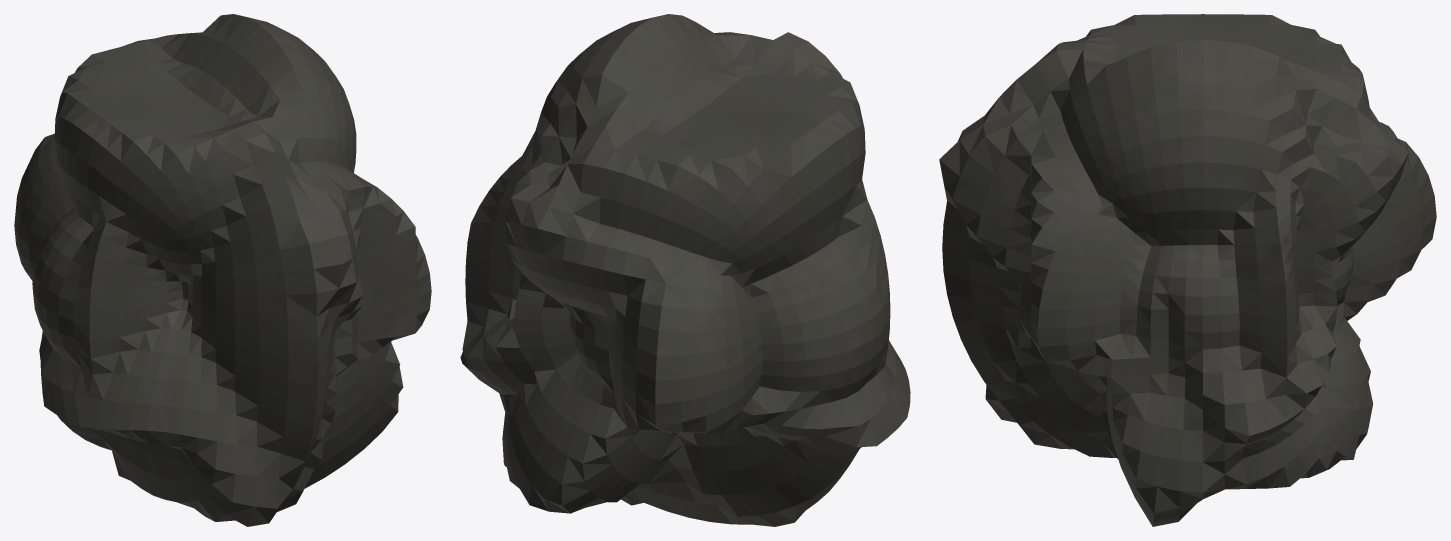
File: rocks-white_2.fbx
The picture shows the model from 3 angles, left to right: view 1: azimuth 30°, elevation 25°; view 2: azimuth 150°, elevation 25°; view 3: azimuth 270°, elevation 25°; orthographic projection. The views are drawn at different scales.
Parts seen in each view (by area): view 1: Cube.032; view 2: Cube.032; view 3: Cube.032.
Part boxes in pixels (box(x1,y1,x2,y2)): Cube.032: box(14, 14, 431, 526); Cube.032: box(460, 14, 910, 526); Cube.032: box(939, 14, 1436, 526).
Bounding box in the file's own units: 133 × 163 × 156.
